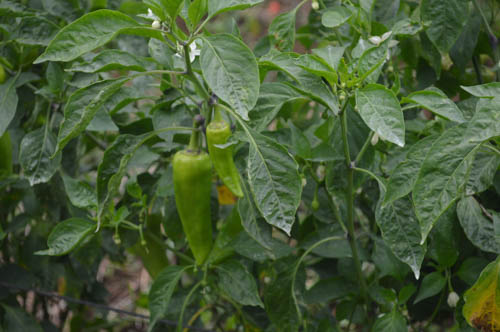ChiliPepper: (171, 156, 213, 267), (205, 126, 245, 196)
